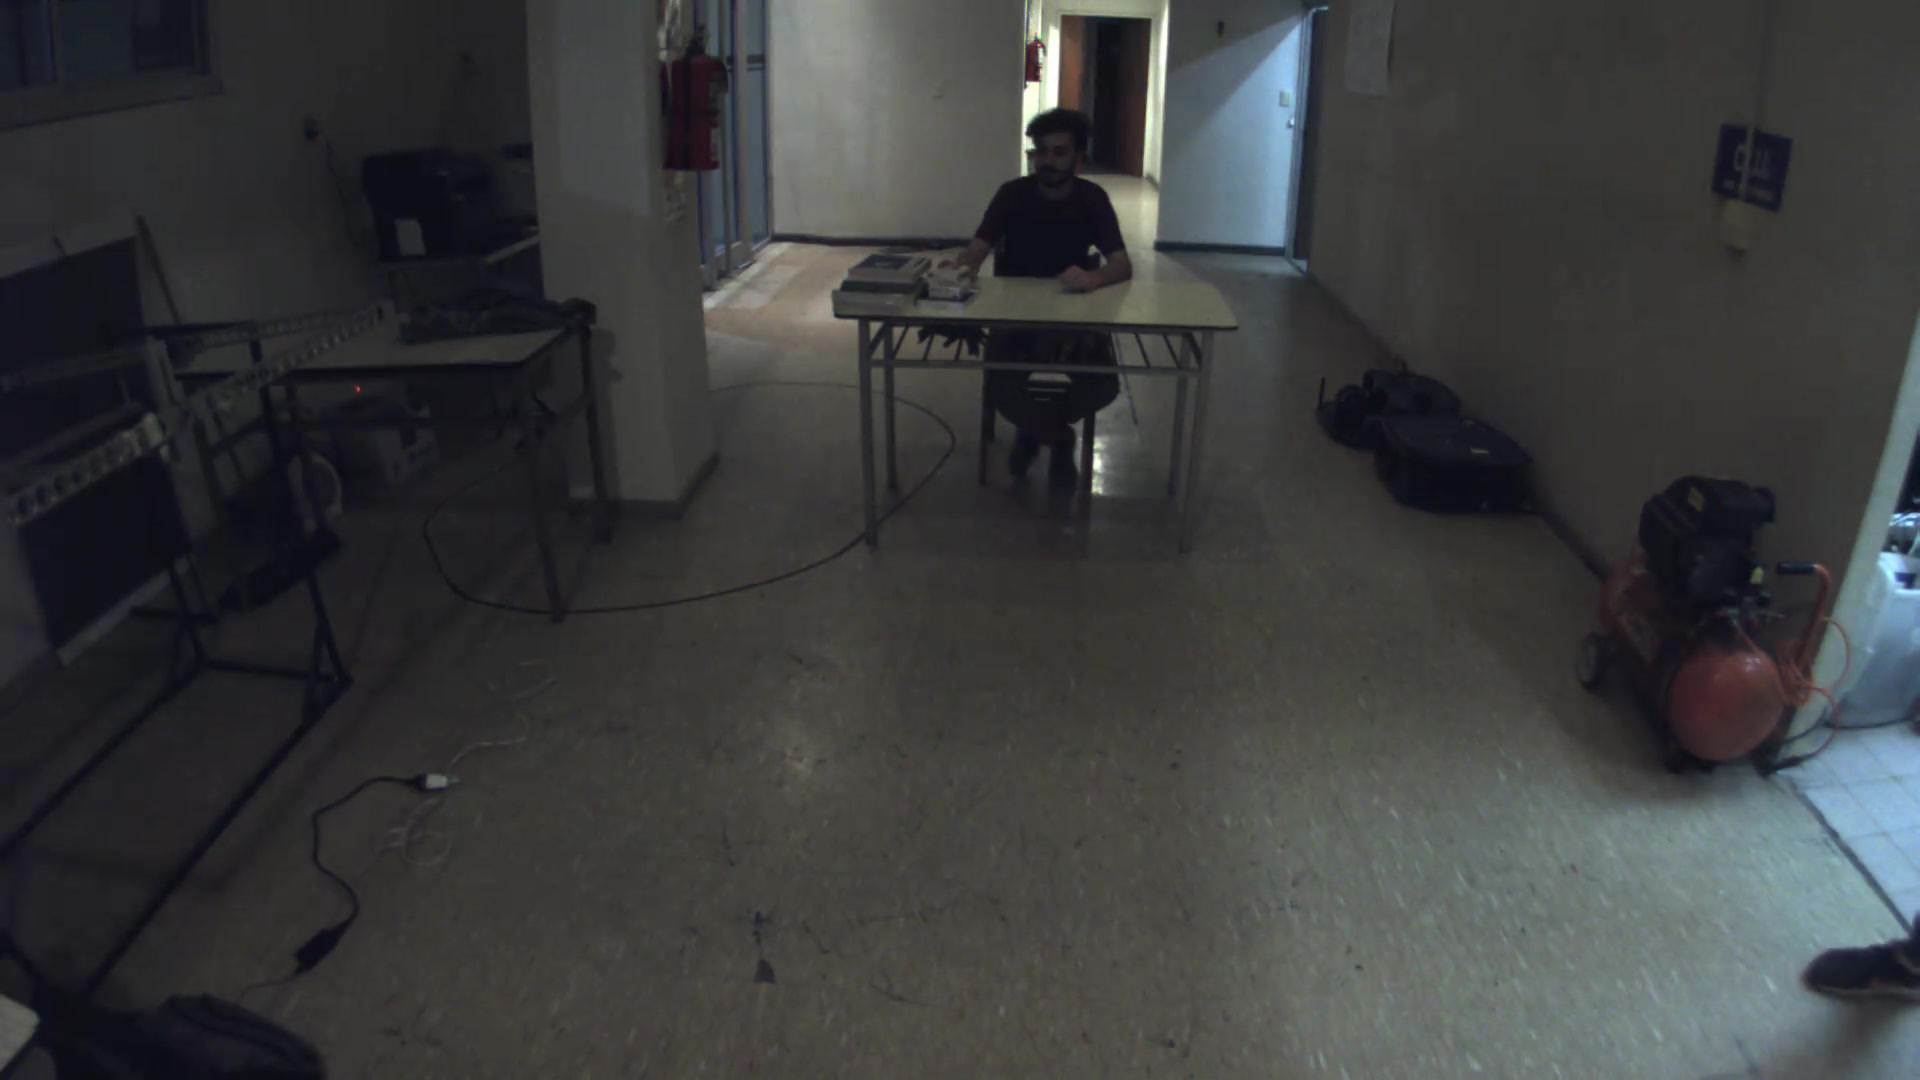hand: (1052, 262, 1101, 295)
